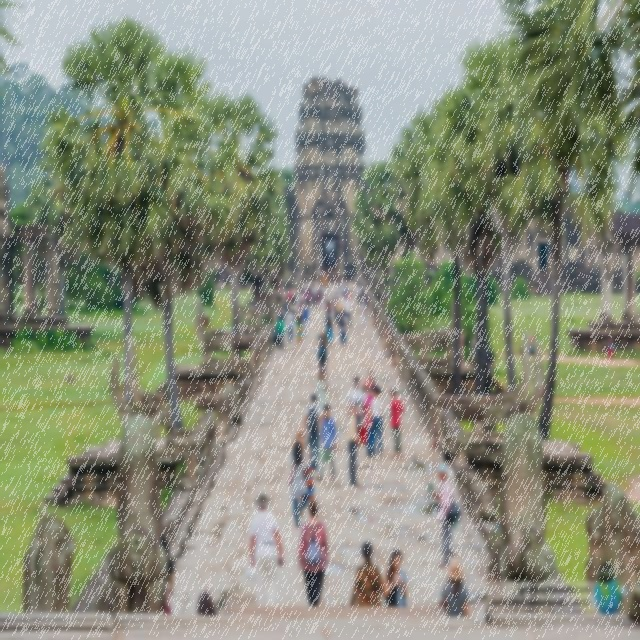pessoa: (248, 492, 285, 608), (296, 500, 330, 608), (431, 462, 456, 569), (349, 542, 386, 608), (290, 422, 308, 530), (314, 403, 338, 483), (439, 557, 469, 617), (302, 392, 324, 472), (157, 528, 176, 618), (444, 450, 459, 556), (295, 430, 316, 504), (382, 550, 408, 608), (368, 387, 386, 460), (346, 375, 364, 448), (271, 266, 297, 316), (347, 402, 362, 488), (388, 387, 404, 461), (314, 369, 330, 437), (365, 384, 378, 459), (358, 380, 370, 446), (192, 588, 218, 618), (518, 331, 546, 358), (316, 330, 329, 372), (272, 313, 285, 350), (319, 272, 332, 306), (426, 253, 444, 277), (324, 306, 334, 346), (286, 306, 296, 344), (296, 306, 305, 346), (432, 598, 450, 618), (323, 247, 338, 270), (458, 325, 466, 368), (338, 308, 347, 346), (342, 294, 352, 328), (364, 368, 377, 392), (301, 302, 309, 339), (332, 290, 340, 323), (358, 296, 366, 328), (334, 296, 342, 328), (324, 294, 332, 326), (381, 324, 389, 354), (310, 281, 318, 311), (608, 334, 616, 362), (314, 288, 322, 314), (296, 284, 304, 310), (339, 291, 347, 316), (488, 347, 496, 372), (214, 274, 224, 294), (304, 286, 312, 310), (240, 278, 252, 294), (336, 272, 344, 292), (342, 282, 350, 301), (362, 282, 368, 306), (356, 282, 362, 304), (332, 284, 338, 298), (348, 286, 352, 304), (308, 284, 313, 292)
